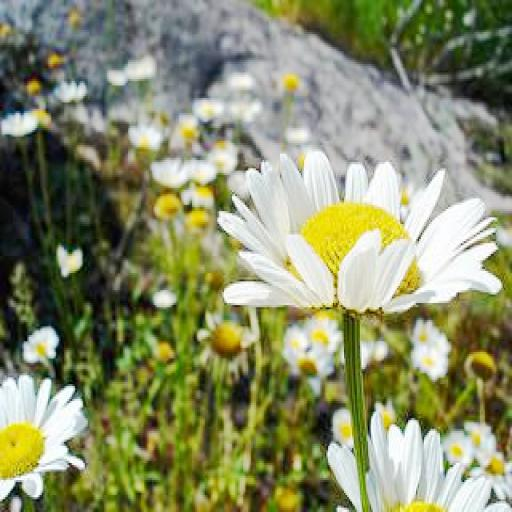daisy: (234, 154, 494, 316), (329, 418, 512, 512), (410, 341, 444, 380), (408, 305, 446, 339), (22, 328, 61, 360), (306, 318, 342, 352), (282, 322, 307, 361), (128, 122, 160, 149), (2, 111, 38, 134), (152, 160, 187, 183), (176, 119, 198, 141), (194, 102, 224, 118), (280, 75, 301, 94)
